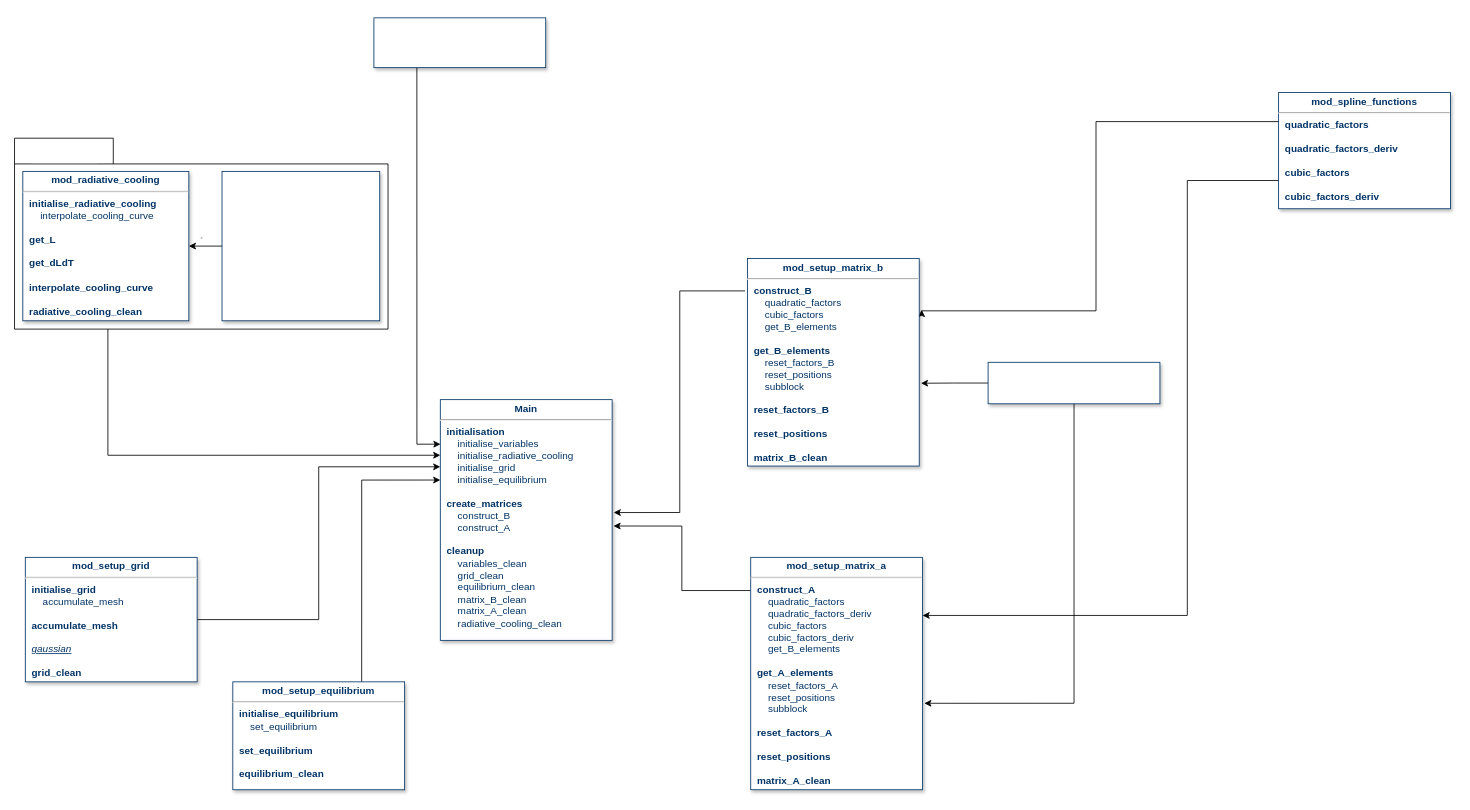
This 1470x810 diagram has some shape labels left out. Each missing label, with the centre of its shape:
"mod_cooling_curves contains data for cooling curves" goes at [301,247].
"mod_global_variables initialise_variables" goes at [460,43].
"mod_make_subblock subblock" goes at [1074,384].
"physics" goes at [64,152].
